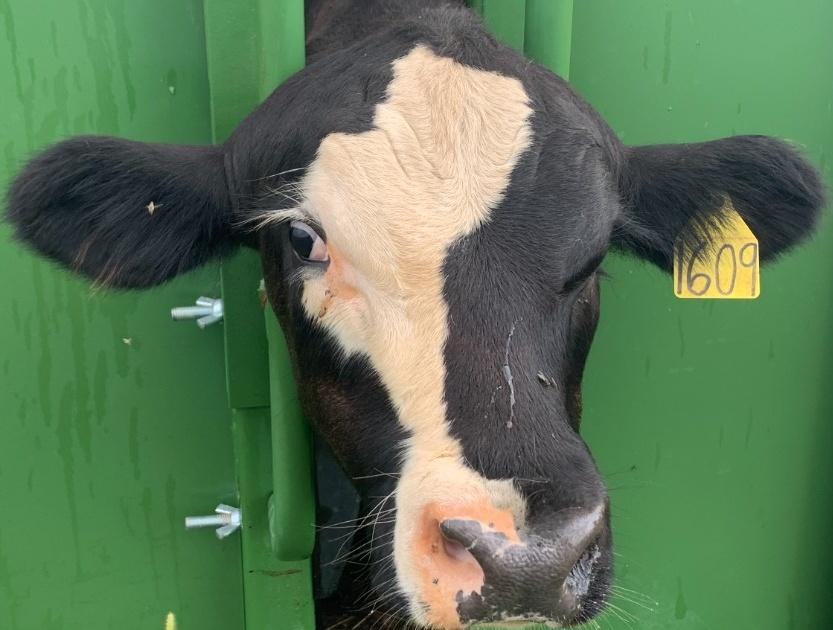muzzles: (375, 472, 627, 630)
